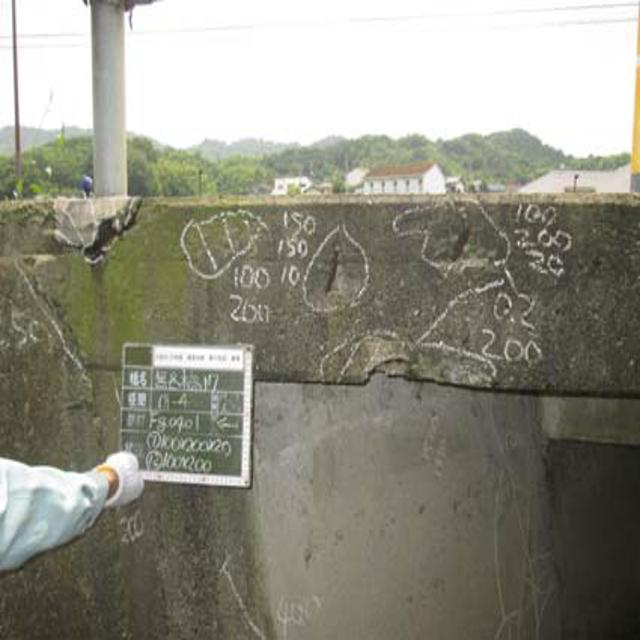spalling: (330, 344, 529, 417), (411, 194, 530, 264), (294, 229, 387, 317), (60, 189, 140, 264)
